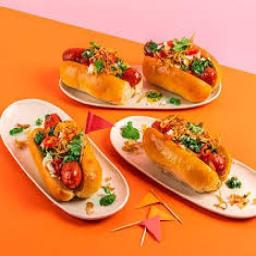hotdog: (139, 111, 236, 195), (23, 110, 103, 203), (142, 33, 223, 101), (56, 38, 142, 102)
